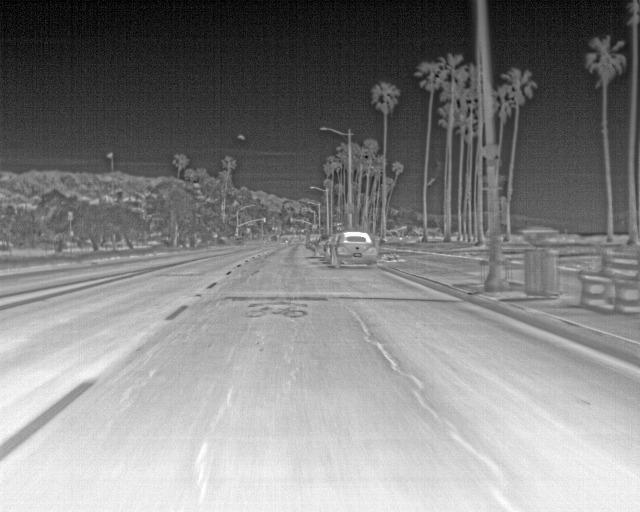car: (332, 232, 378, 269), (322, 234, 336, 262), (314, 234, 329, 258), (306, 234, 318, 248), (234, 237, 244, 246), (271, 236, 277, 241)
light: (264, 218, 266, 223), (290, 218, 292, 222), (302, 219, 304, 223)
sign: (345, 204, 354, 213), (68, 212, 73, 220), (312, 224, 317, 228)
